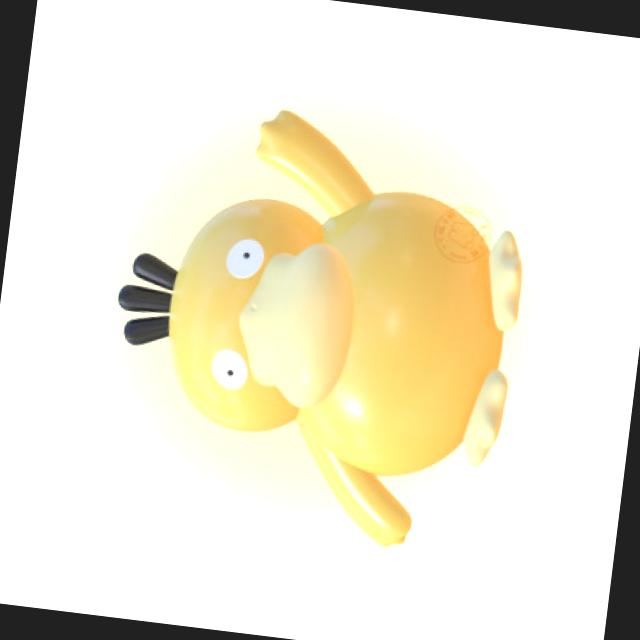Duck: (73, 90, 548, 540)
